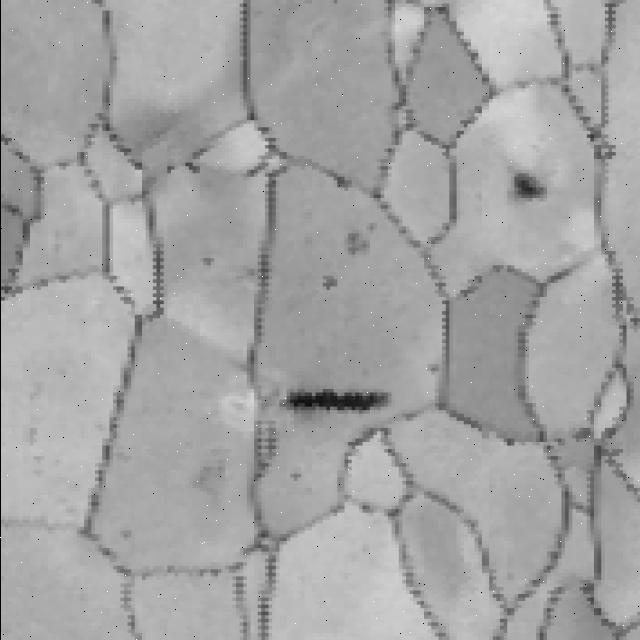good_void: (283, 380, 394, 417), (503, 166, 551, 212), (345, 228, 375, 254), (323, 272, 342, 291), (199, 250, 215, 270), (183, 161, 203, 177), (423, 360, 441, 376), (334, 174, 352, 190), (287, 468, 303, 484)
